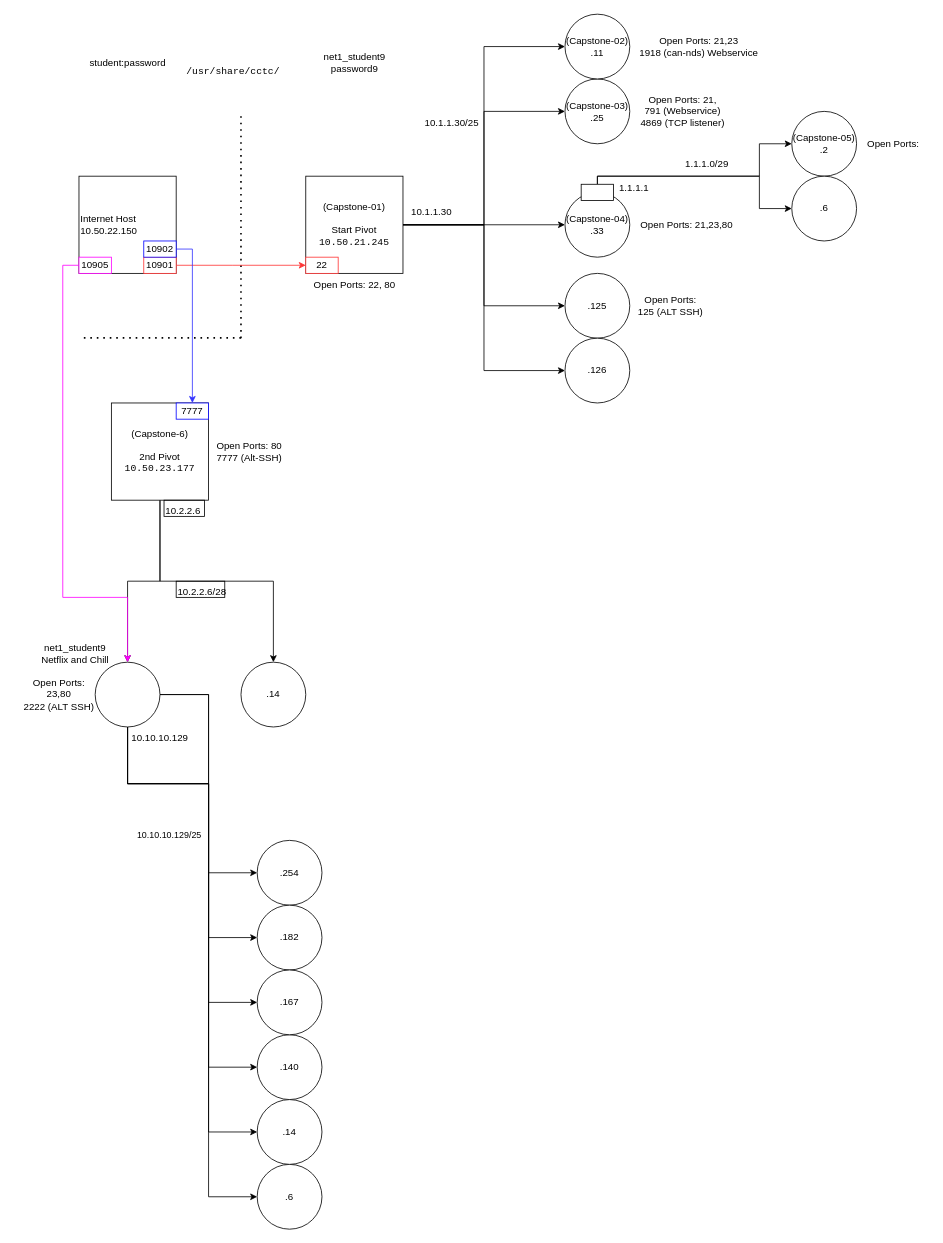
This 943x1243 diagram has some shape labels left out. The shapes that lost their labels are listed below. From the top down, each one's centre as x and y in pixels, then its label:
At (597,191): "eth1".
At (127,694): "(Capstone-7) .7".
